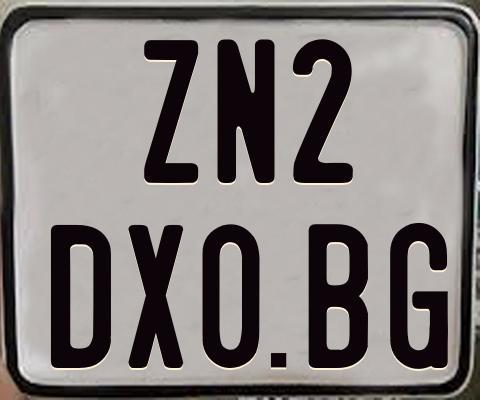0: (199, 222, 262, 371)
2: (293, 39, 353, 187)
B: (306, 224, 367, 368)
D: (48, 224, 113, 367)
G: (389, 220, 447, 366)
N: (217, 39, 281, 187)
X: (128, 223, 184, 366)
Z: (144, 40, 202, 185)
